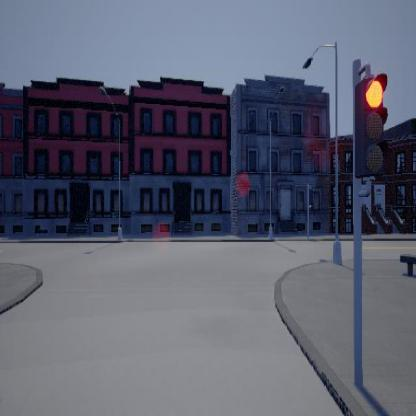traffic_light_red: (354, 61, 388, 196)
